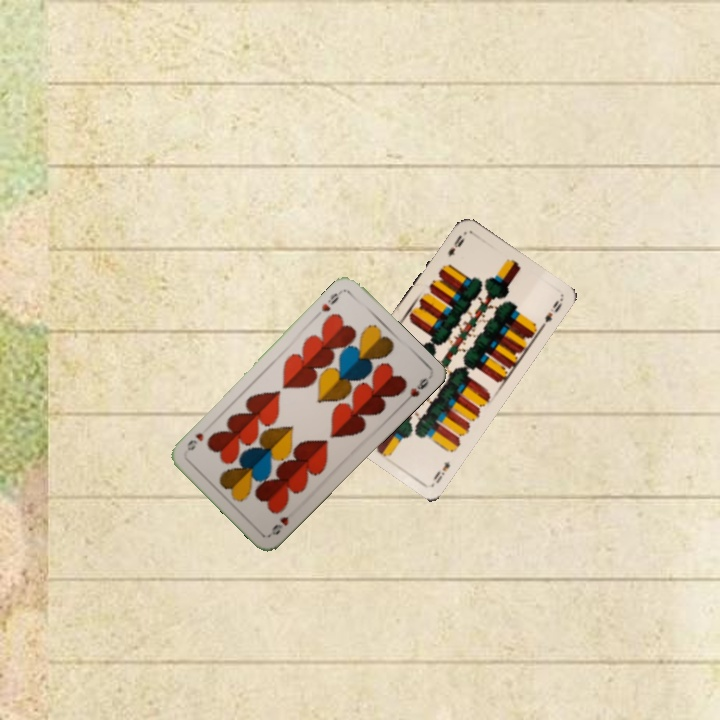E9: (429, 457, 453, 486), (444, 231, 468, 259)
H9: (317, 286, 344, 314), (267, 512, 291, 538)
